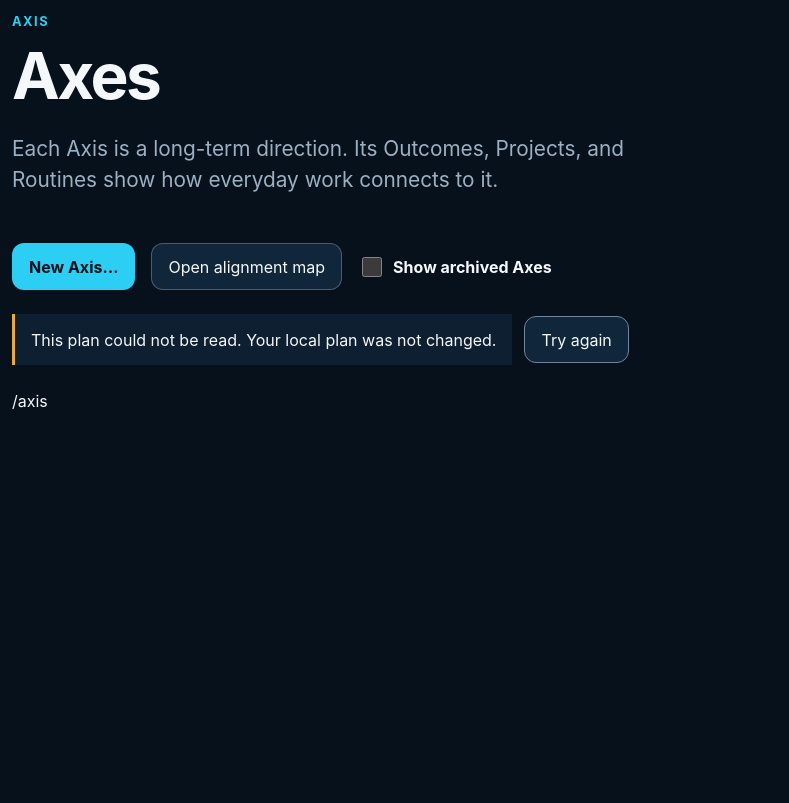
Axis overview › recovers from a read error
Expected: the message shows "could not be read", [31, 330, 496, 350]
Click the button "Try again" at point(577, 340), box [524, 316, 629, 363]
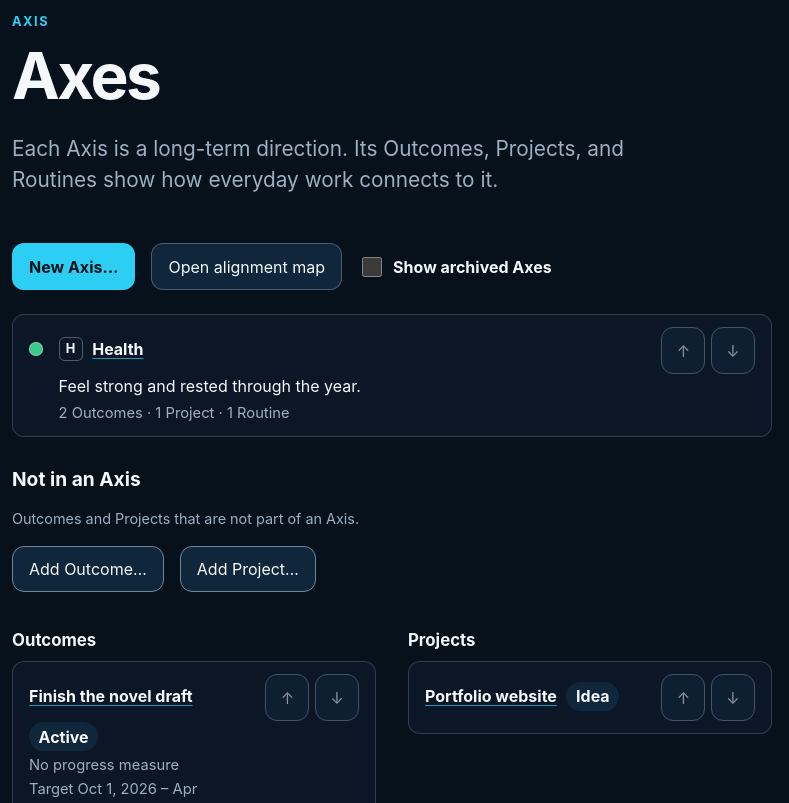
Expected: the link "Health" is shown, [92, 339, 144, 359]
